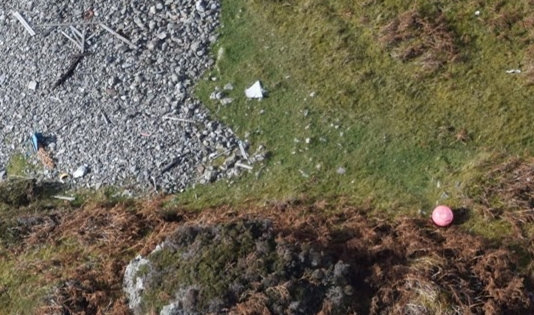white_in_green: (411, 183, 477, 245), (229, 65, 284, 119), (11, 116, 64, 165)
